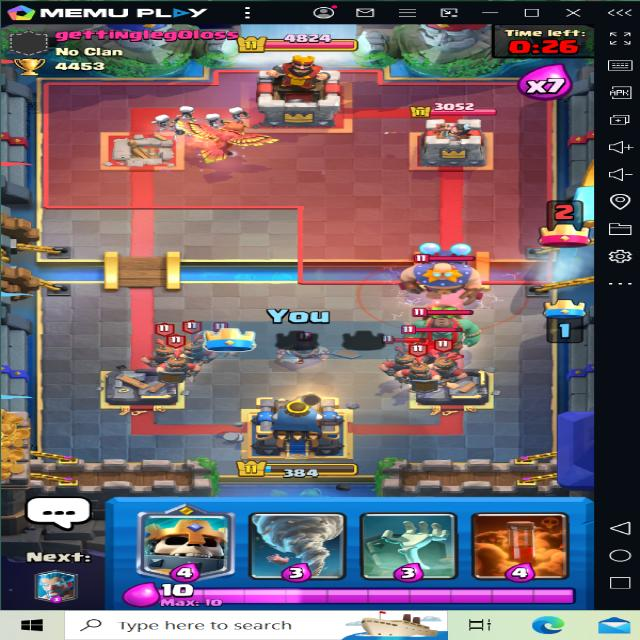electro-barbarians: (270, 329, 330, 367)
electro-giant: (401, 245, 495, 302)
goblin-giant: (411, 297, 481, 346)
royal-recruits: (425, 344, 475, 391), (398, 354, 448, 393), (139, 326, 186, 366), (153, 348, 196, 384), (388, 334, 422, 379)
